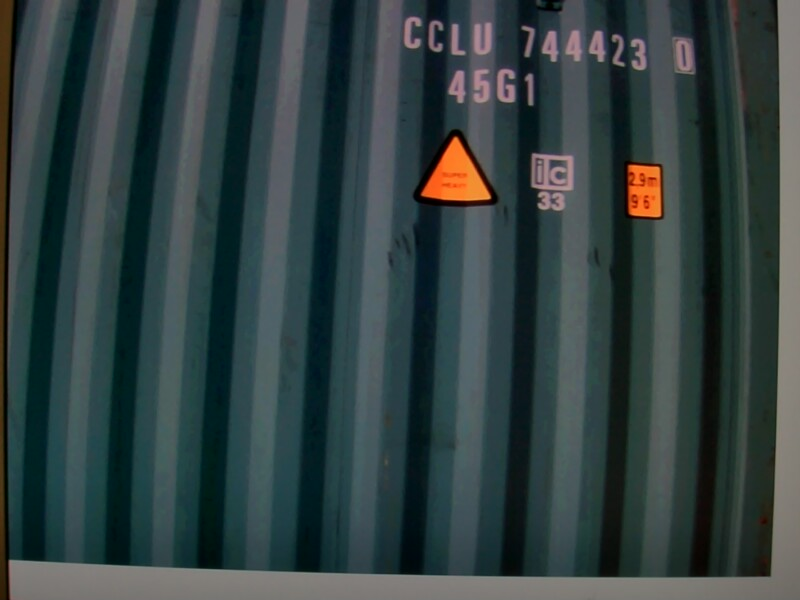container_no_door: (70, 28, 665, 542)
